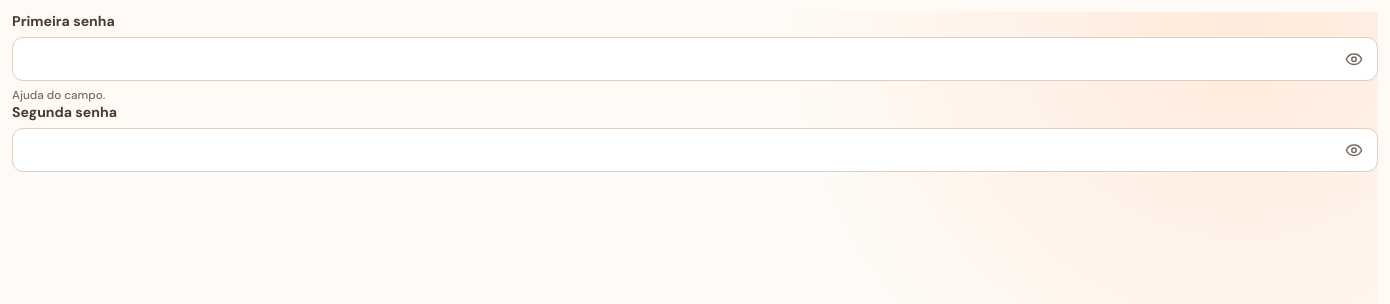
Test: alterna cada senha sem alterar valor, foco ou atributos do campo
This screenshot has width=1390, height=304.
Type "segredo123" into the password field labelled "Primeira senha" at (695, 59), box [12,37,1378,81]
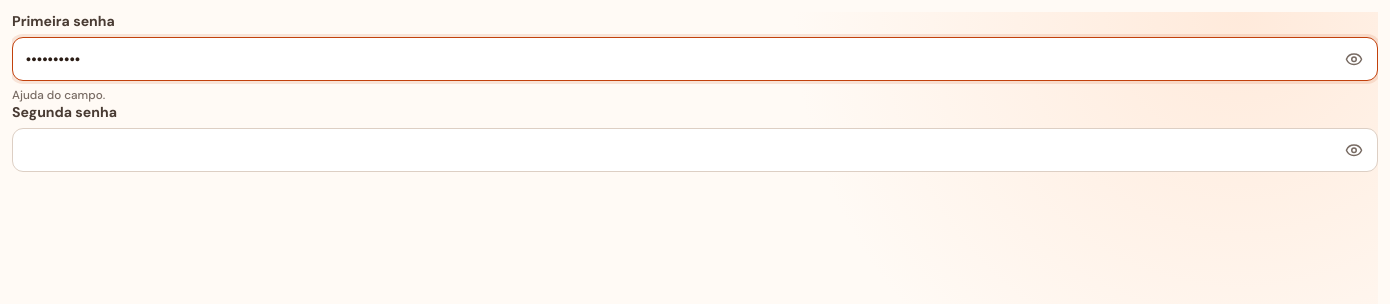
Click the 1st button named "Mostrar senha" at (1354, 59), box [1336,40,1373,78]
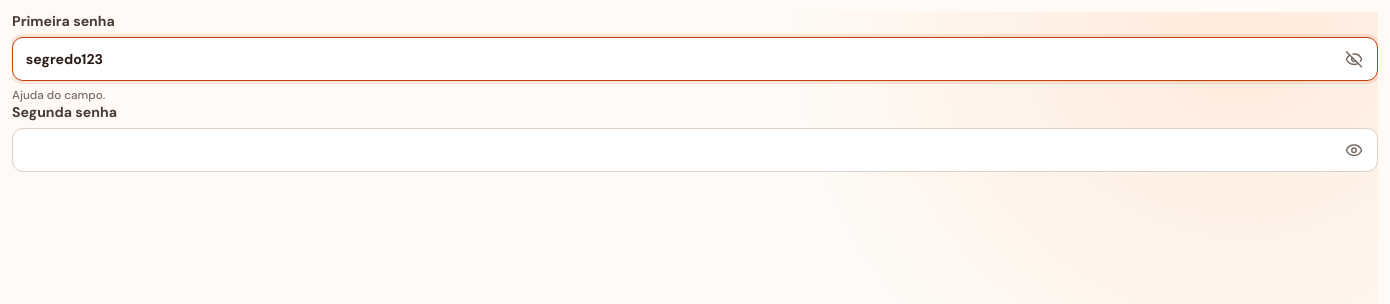
Now the field labelled "Primeira senha" shows its text, box [12,37,1378,81]
